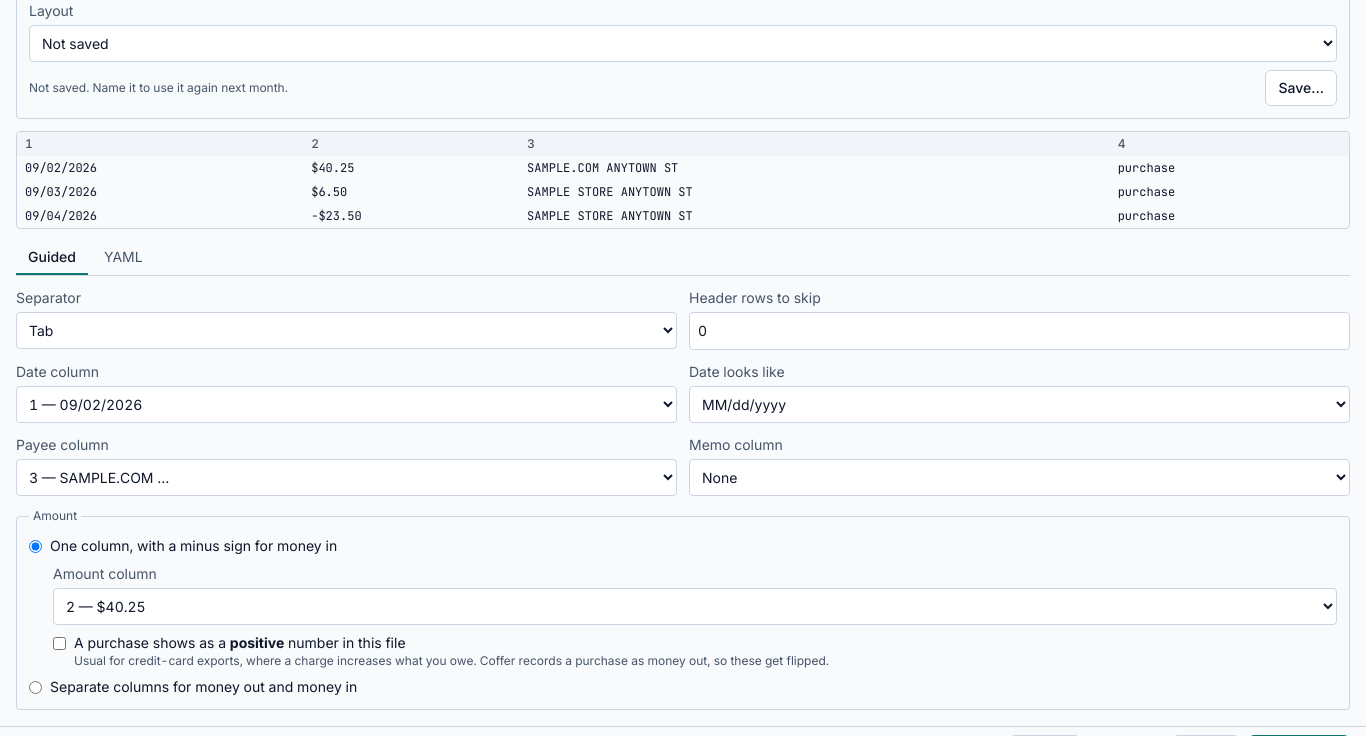
it: CsvMappingStep › gets out of the way when the document it was asked to save is invalid
Click the button "Save…" at [1301, 88], box [1266,70,1337,106]
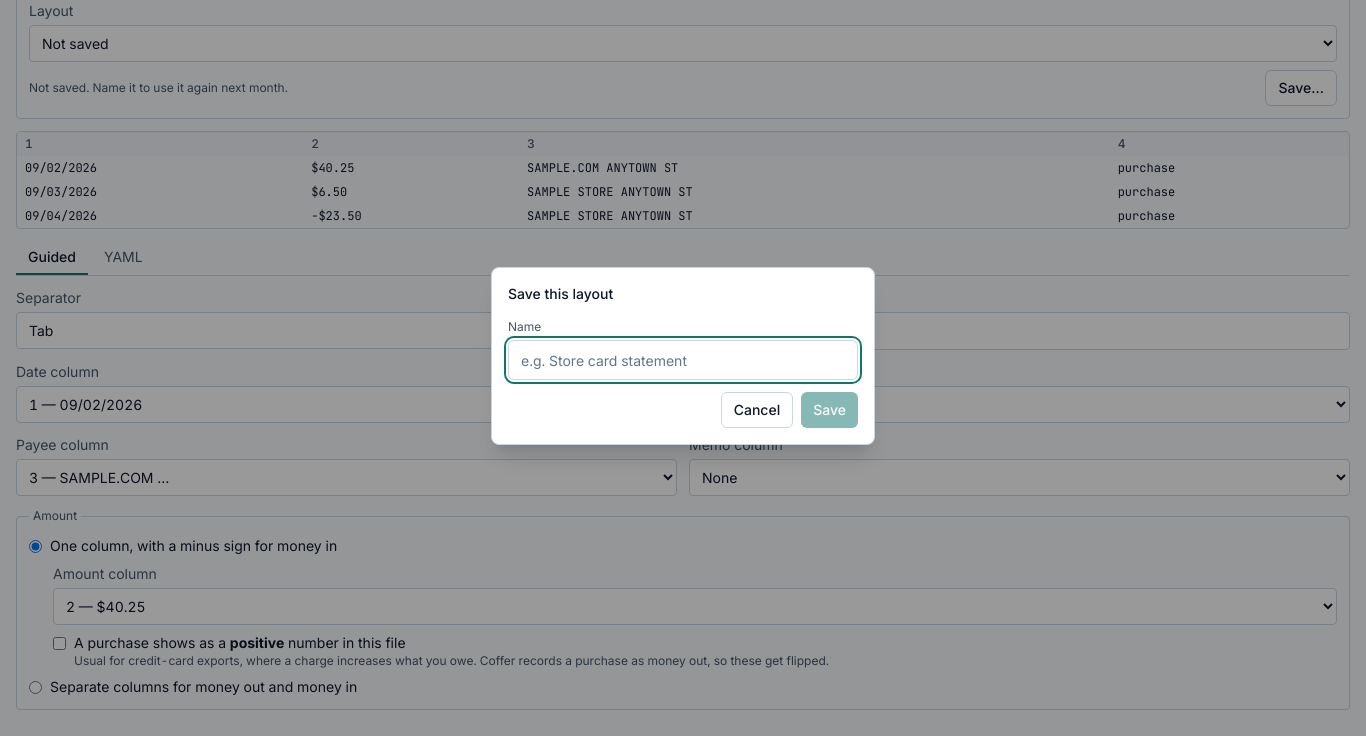
Type "Mine" into the field labelled "Name" at [683, 360], box [508,340,858,380]
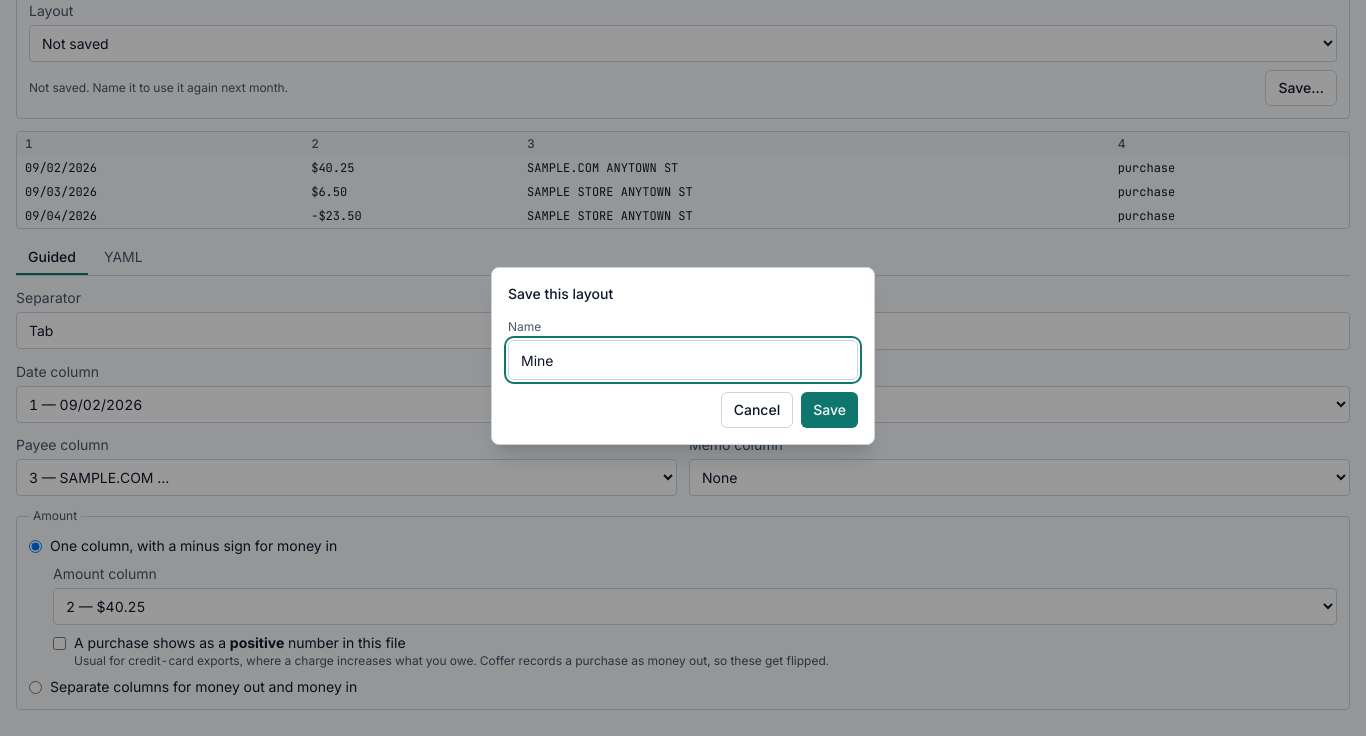
Click the button "Save" at [830, 410], box [801,392,858,428]
(page scrolled)
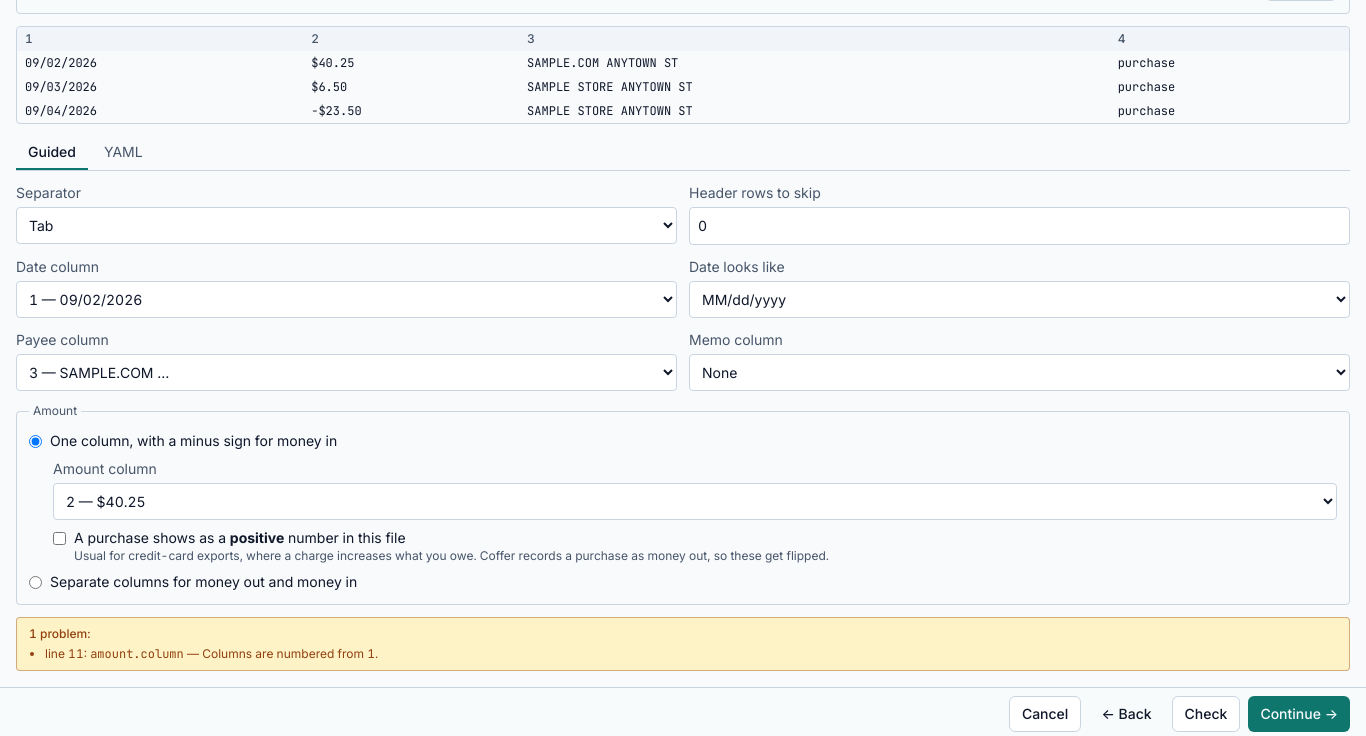
Expected: the dialog is gone
Expected: the message shows "amount.column", [90,646,184,662]
